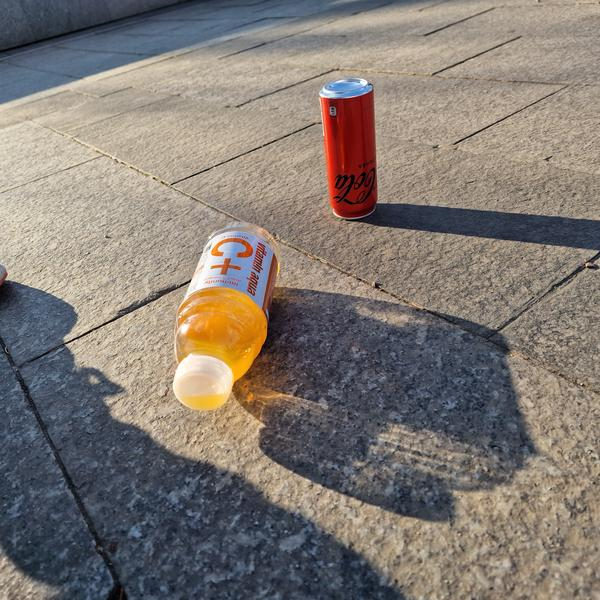can: (318, 74, 381, 221)
plastic_bottle: (150, 208, 298, 424)
